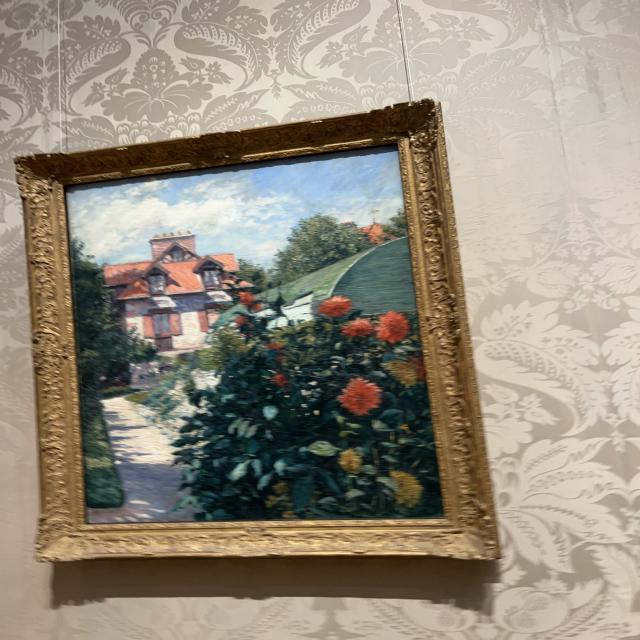summer: (66, 152, 436, 519)
